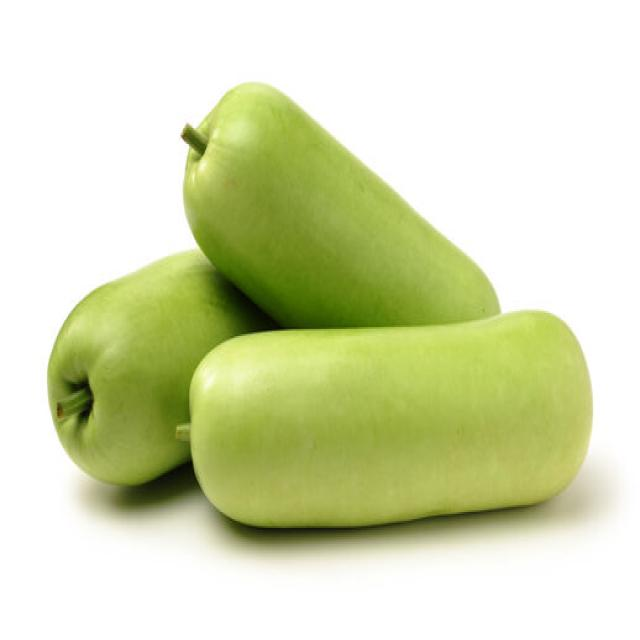Bottle Gourd: (177, 306, 593, 530), (179, 78, 502, 329), (46, 245, 274, 487)
